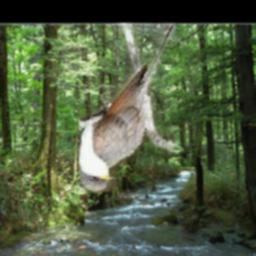Cuckoo: (79, 24, 176, 193)
